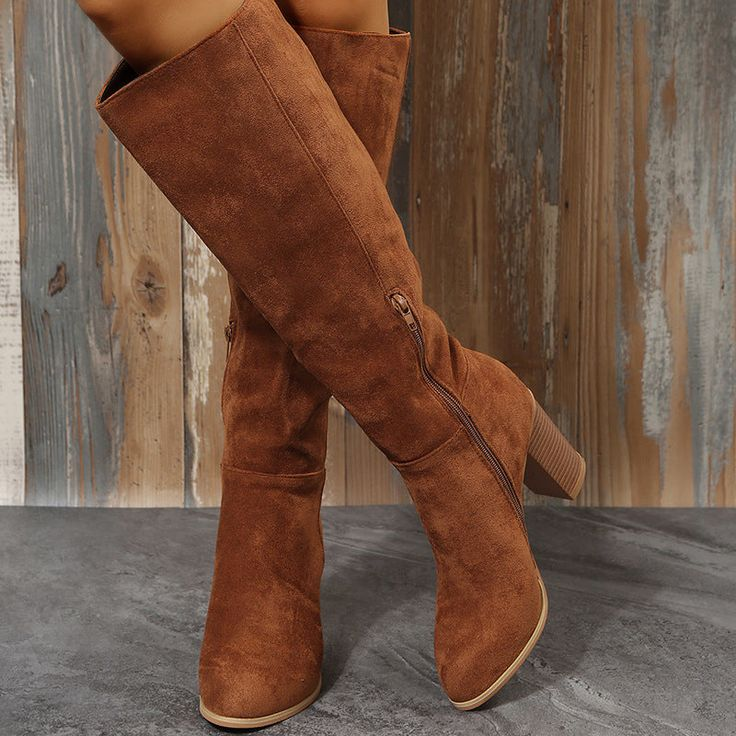gamuza: (94, 1, 543, 718)
